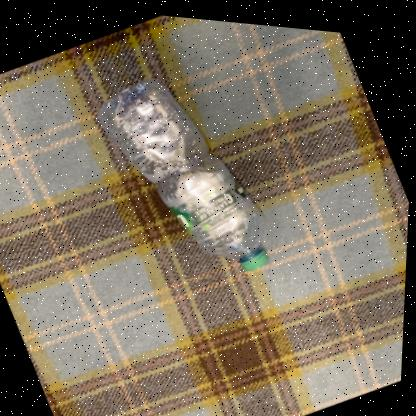Plastic: (98, 75, 271, 265)
